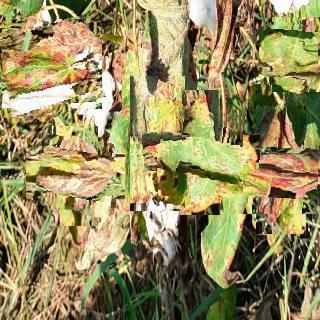blight: (2, 19, 102, 119), (235, 124, 320, 214), (157, 109, 243, 196), (130, 76, 185, 211), (36, 137, 114, 215), (264, 22, 320, 85)
